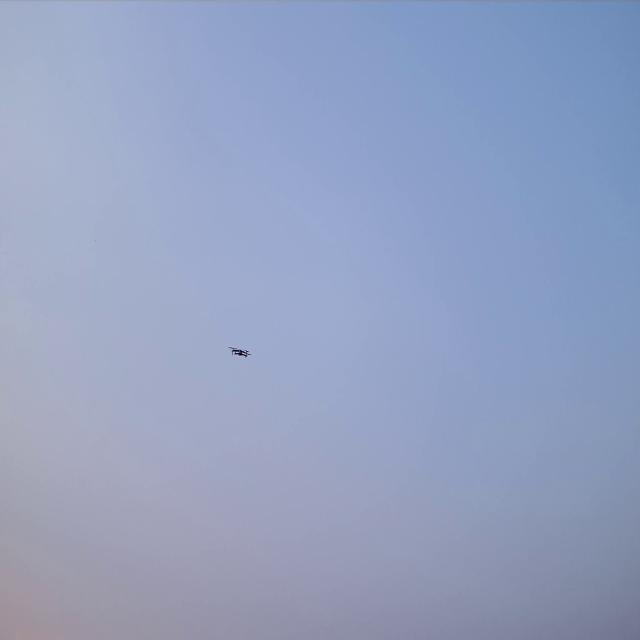UAV: (228, 344, 252, 358)
